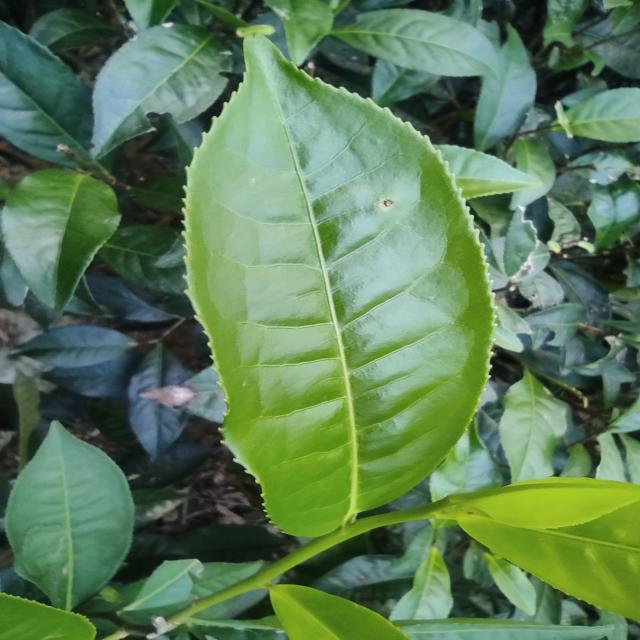Category C(4-7 days): (111, 10, 522, 550)
